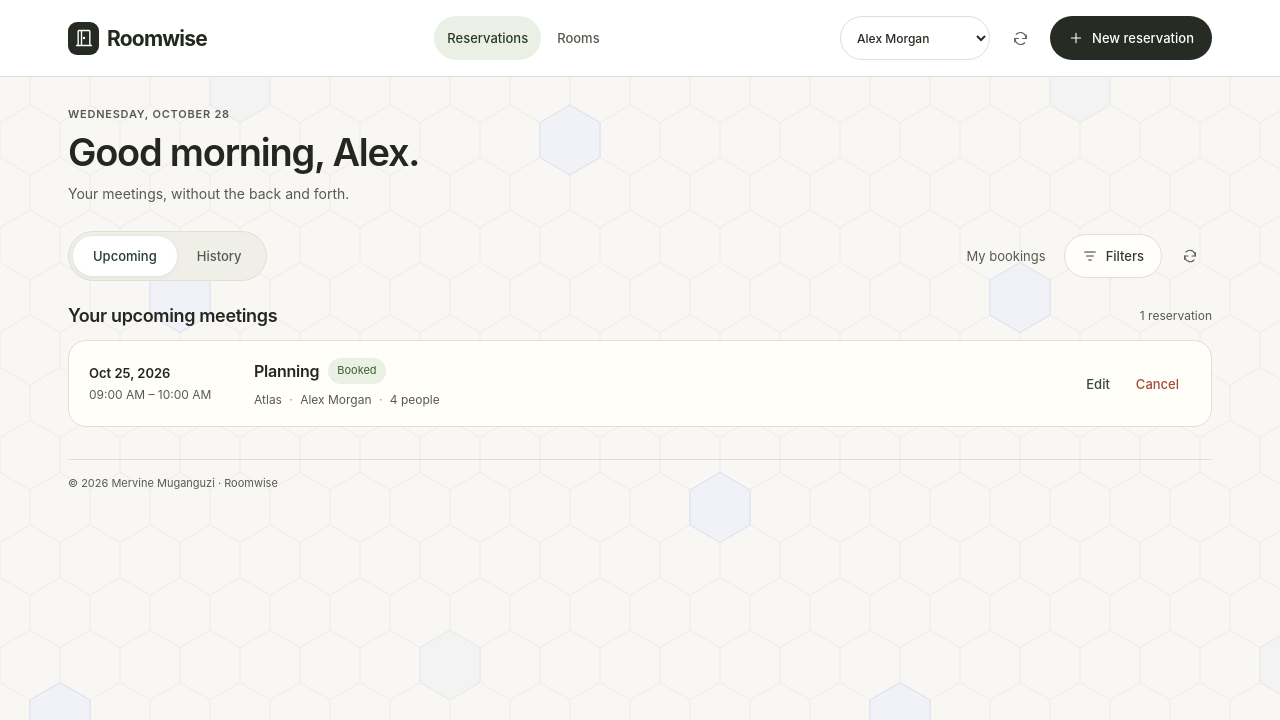
Test case: workspace › shows compact room search with real slot availability and disables inactive rooms
Click the button "Rooms": (578, 38) x1=544 y1=16 x2=613 y2=60
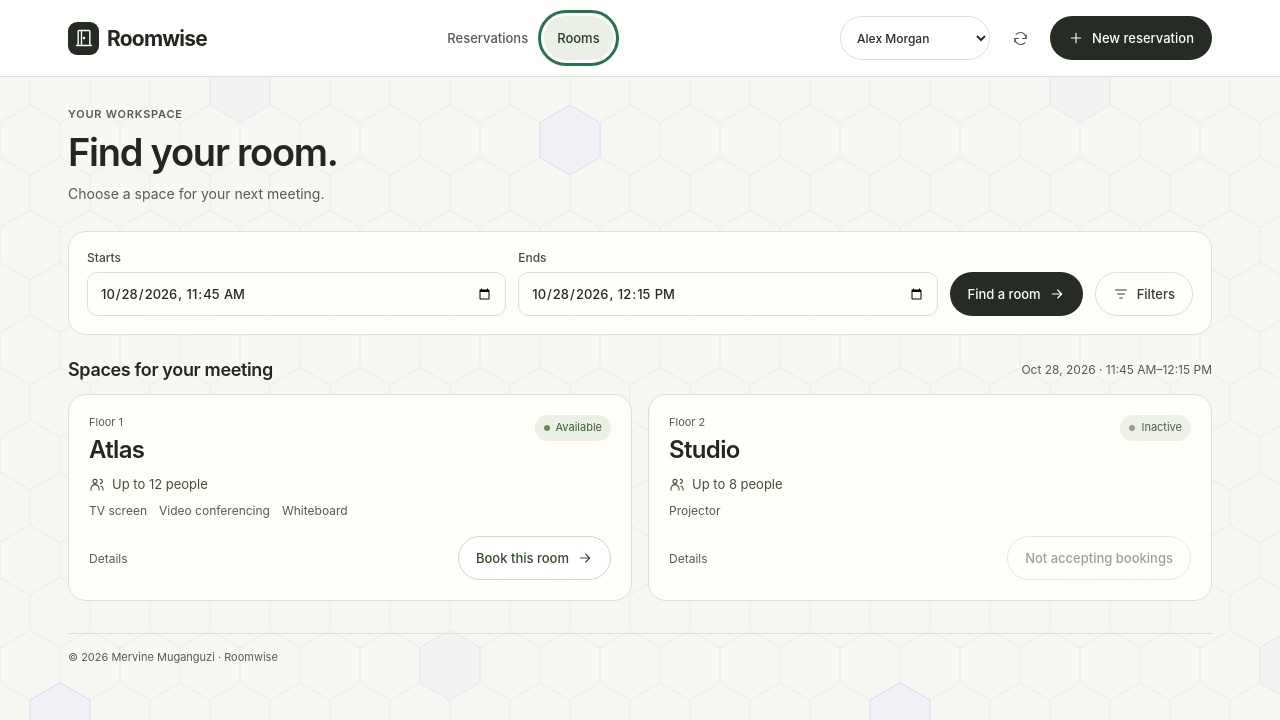
Expected: the heading "Atlas" is shown, x1=89 y1=435 x2=144 y2=464
Expected: the button "Not accepting bookings" is disabled, x1=1007 y1=536 x2=1191 y2=580
